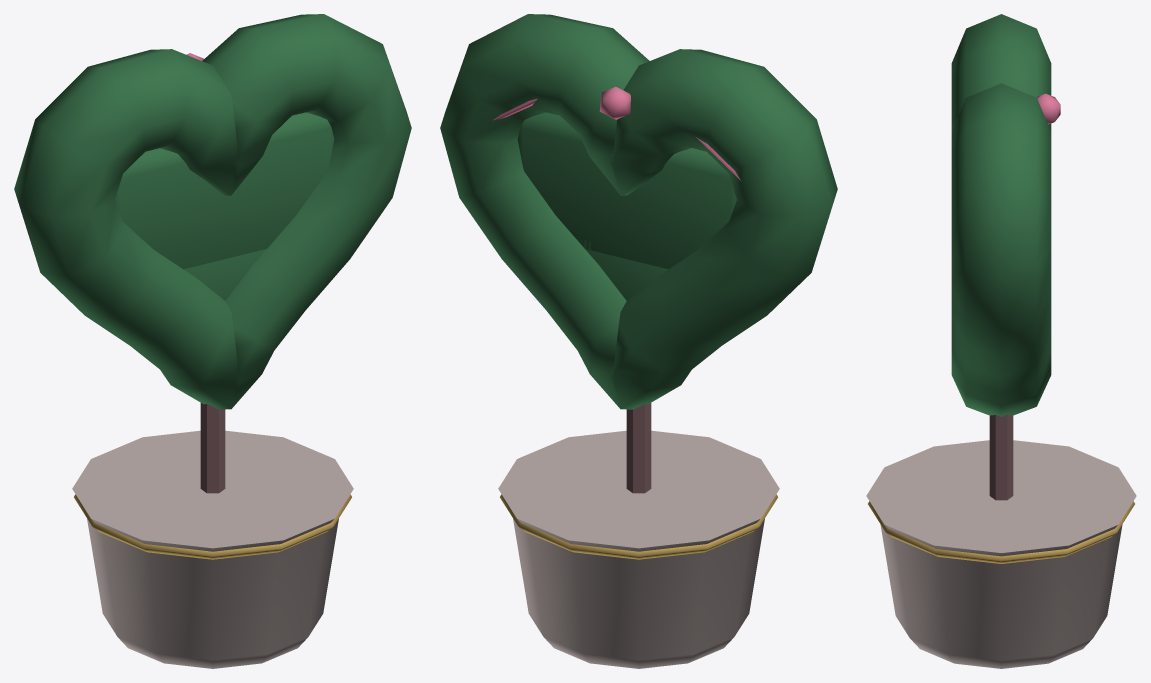
Rendered from topiary_heart_ribbon.glb.
3 views of the same model, side by side, from view 1: azimuth 30°, elevation 25°; view 2: azimuth 150°, elevation 25°; view 3: azimuth 270°, elevation 25° (orthographic). The views are drawn at different scales.
Parts seen in each view (by area): view 1: topiary_heart_ribbon; view 2: topiary_heart_ribbon; view 3: topiary_heart_ribbon.
Boxes of the visible parts, x1,y1,x2,y2 form: topiary_heart_ribbon: [14, 14, 411, 668]; topiary_heart_ribbon: [440, 14, 837, 668]; topiary_heart_ribbon: [866, 14, 1136, 668].
Size of what is drawn, in the model's own units: 1.46 by 2.12 by 0.92.
